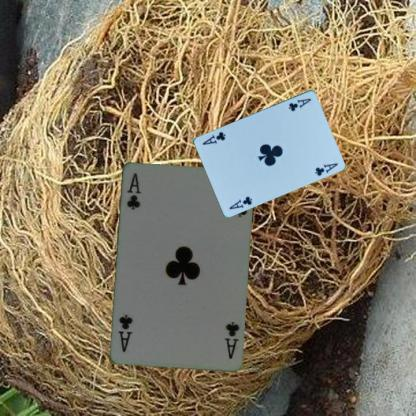Ac: (124, 170, 142, 211), (222, 319, 240, 360), (286, 95, 313, 113), (226, 194, 254, 210)
